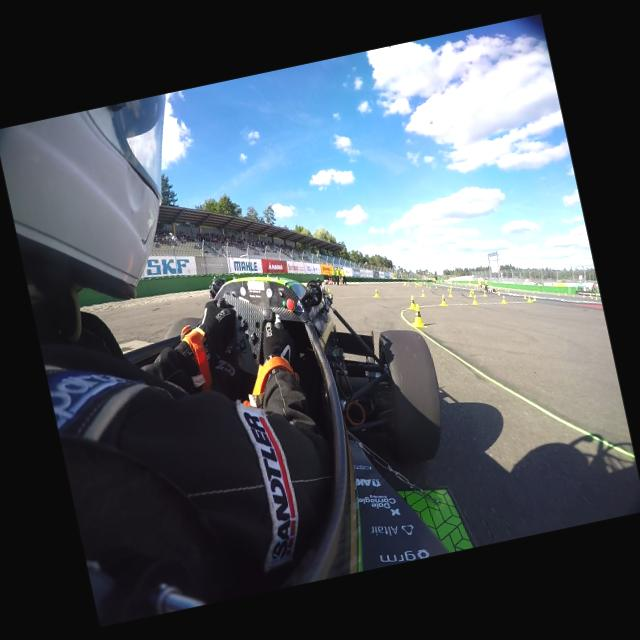yellow_cone: (408, 304, 424, 328), (408, 295, 416, 309), (438, 294, 446, 306), (469, 294, 477, 305), (499, 294, 506, 304), (419, 288, 425, 297), (372, 288, 378, 296), (468, 288, 474, 294), (448, 290, 452, 297), (468, 289, 472, 295), (482, 290, 486, 296), (526, 296, 530, 302)
